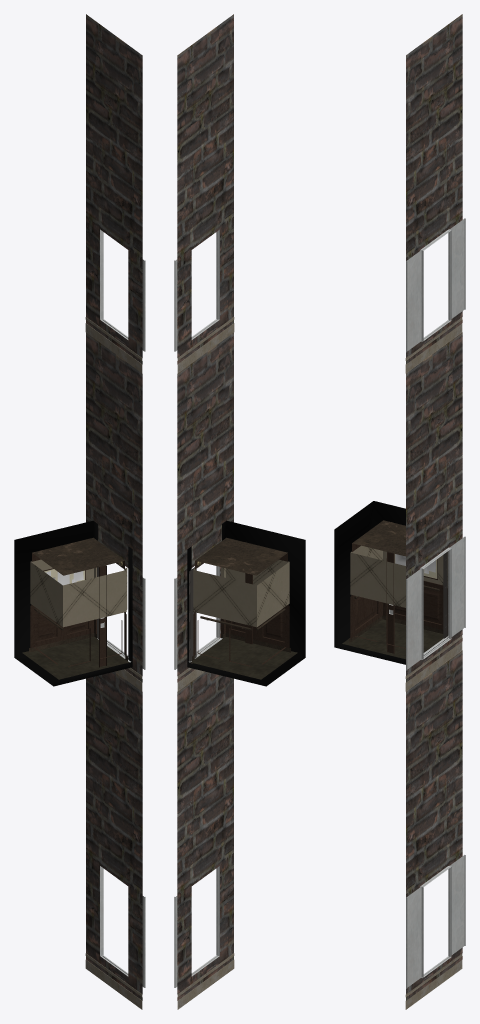
The model's file is PalacioNacional.fbx.
3 views of the same model, side by side, from view 1: azimuth 30°, elevation 25°; view 2: azimuth 150°, elevation 25°; view 3: azimuth 330°, elevation 25° (orthographic).
Visible parts, largest first — view 1: Exterior2, Exterior3, Ascensor, Exterior; view 2: Exterior2, Exterior3, Ascensor, Exterior; view 3: Exterior, Exterior2, Exterior3, Ascensor.
Part boxes in pixels (x1,y1,x2,y2): Exterior2: (85,14,145,373); Exterior3: (85,671,145,1009); Ascensor: (14,520,132,686); Exterior: (86,333,145,691); Exterior2: (174,14,234,373); Exterior3: (174,671,234,1009); Ascensor: (187,520,305,686); Exterior: (174,333,233,691); Exterior: (405,332,465,691); Exterior2: (405,14,465,373); Exterior3: (405,650,465,1009); Ascensor: (334,501,448,664).
Size of the model in its own units: 192 by 2094 by 233.
